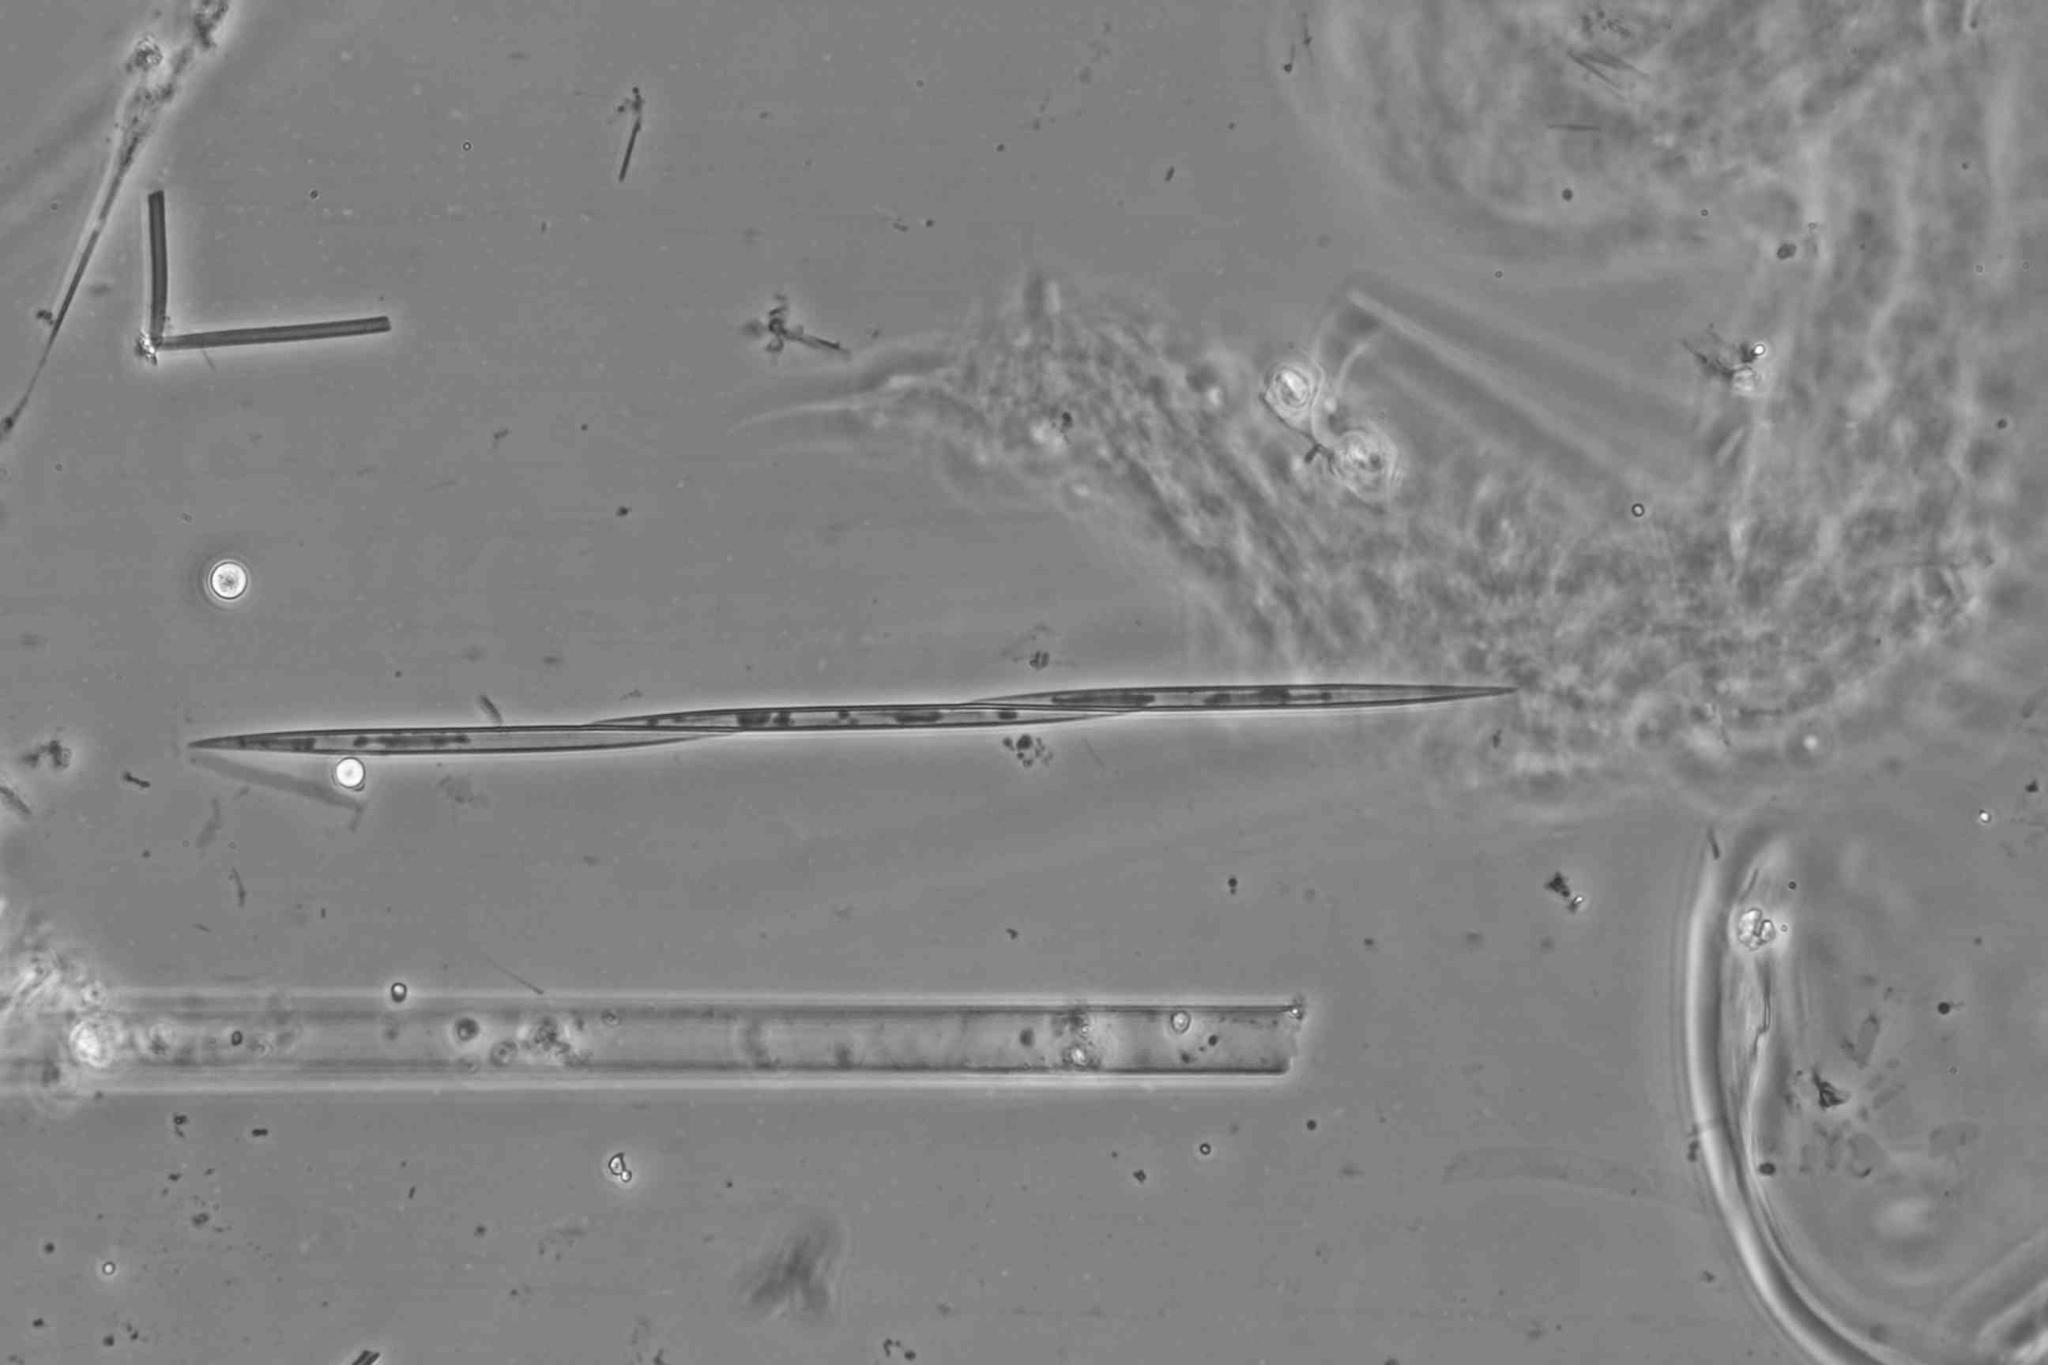pseudo_nitzschia: (189, 682, 1524, 754)
